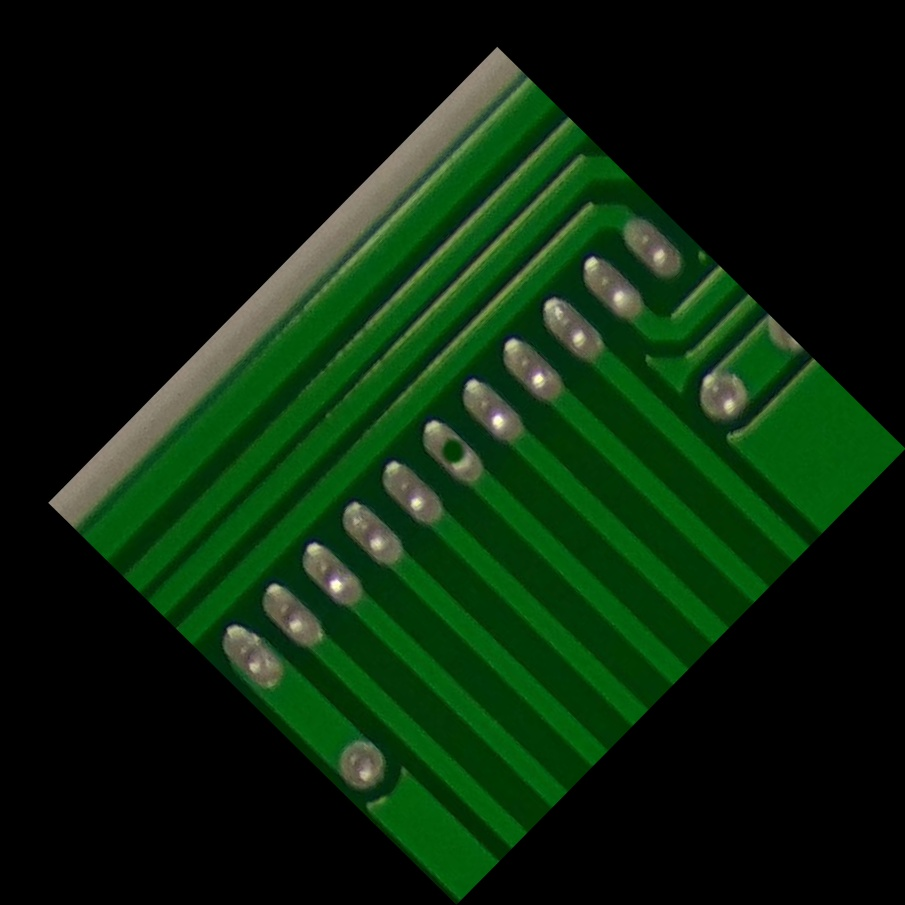missing_hole: (407, 408, 497, 498)
